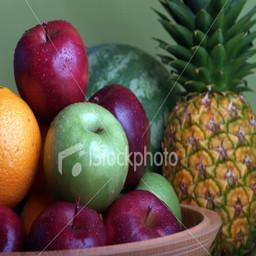apple: (45, 98, 128, 206), (13, 18, 89, 118), (82, 83, 150, 194), (27, 199, 107, 250), (105, 190, 179, 239)
